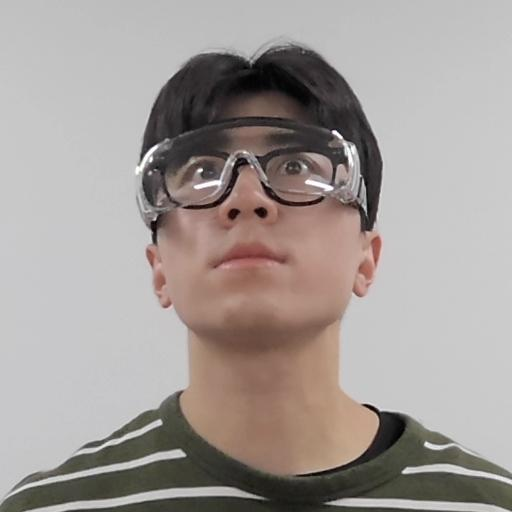glasses: (123, 42, 392, 358)
